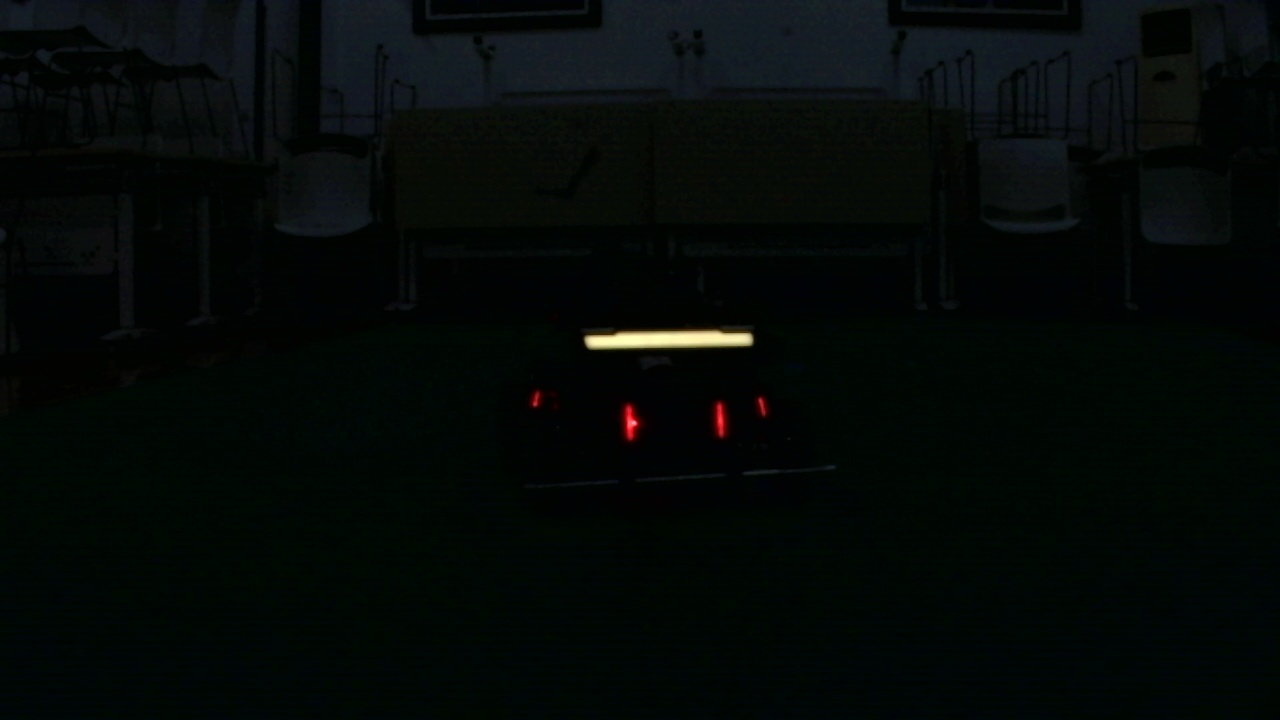lamp: (623, 399, 640, 443), (711, 404, 728, 438), (755, 392, 771, 419)
pair1: (623, 405, 728, 436)
